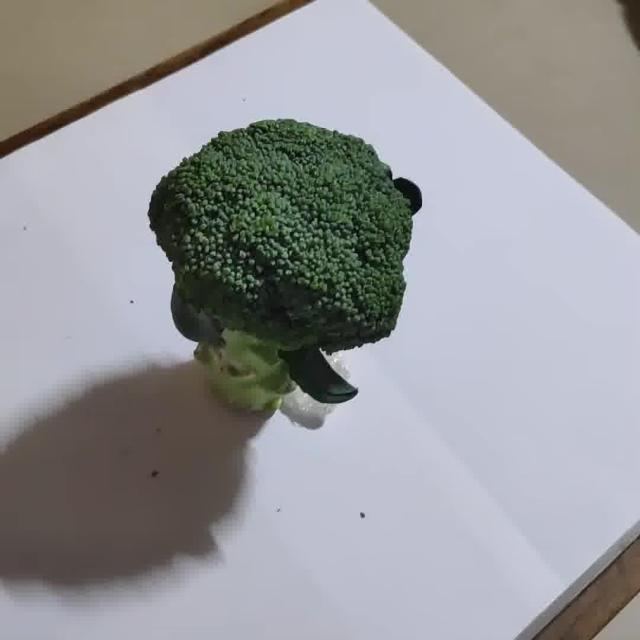Broccoli: (148, 119, 421, 427)
